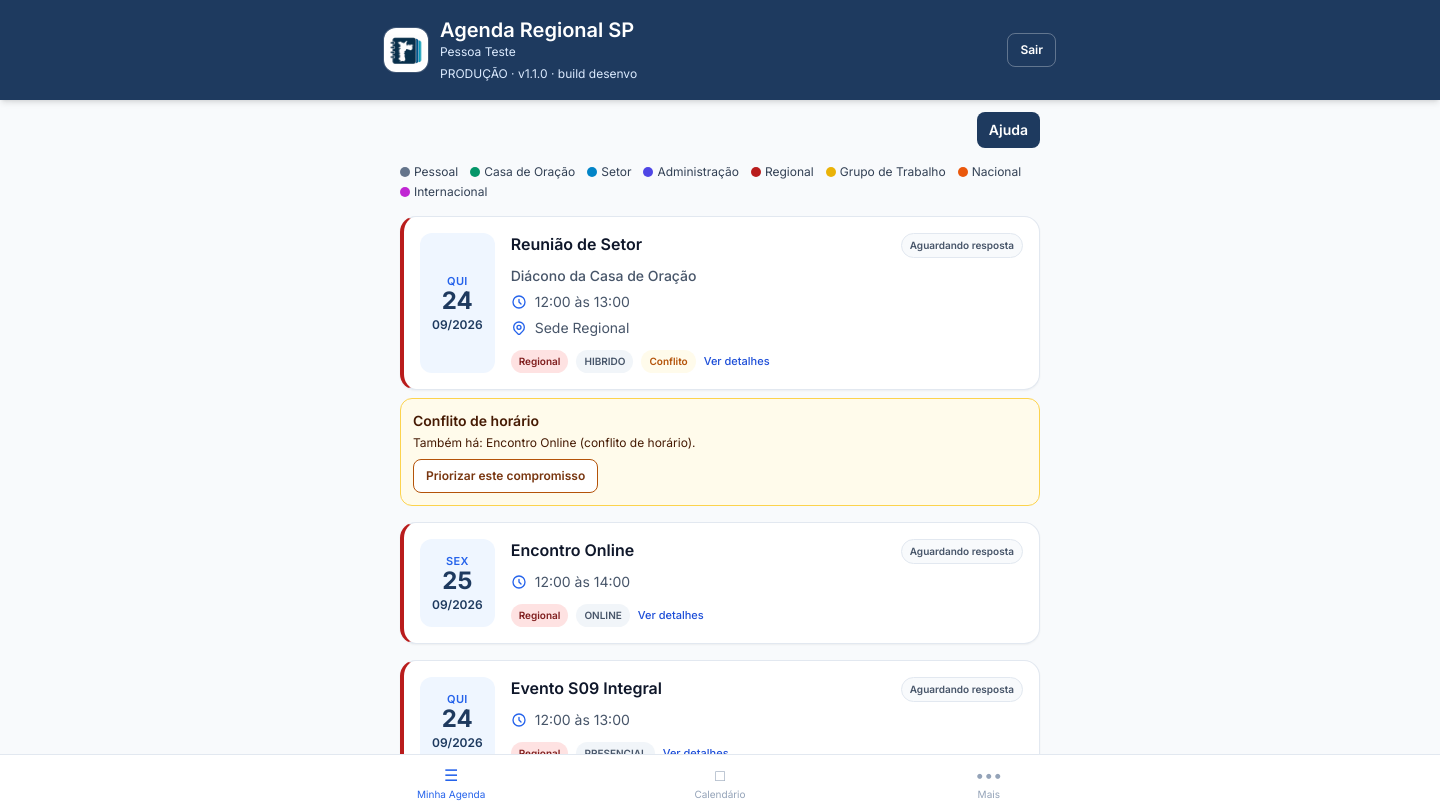
Test: S07 - Minha Agenda e Calendário › 3d. recalcula conflitos depois de alterar o RSVP
expect the text "Conflito de horário" is shown: met, box x1=413 y1=412 x2=539 y2=429
Click the button "Reunião de Setor".
click(457, 303)  # box x1=400 y1=216 x2=1040 y2=390
(page scrolled)
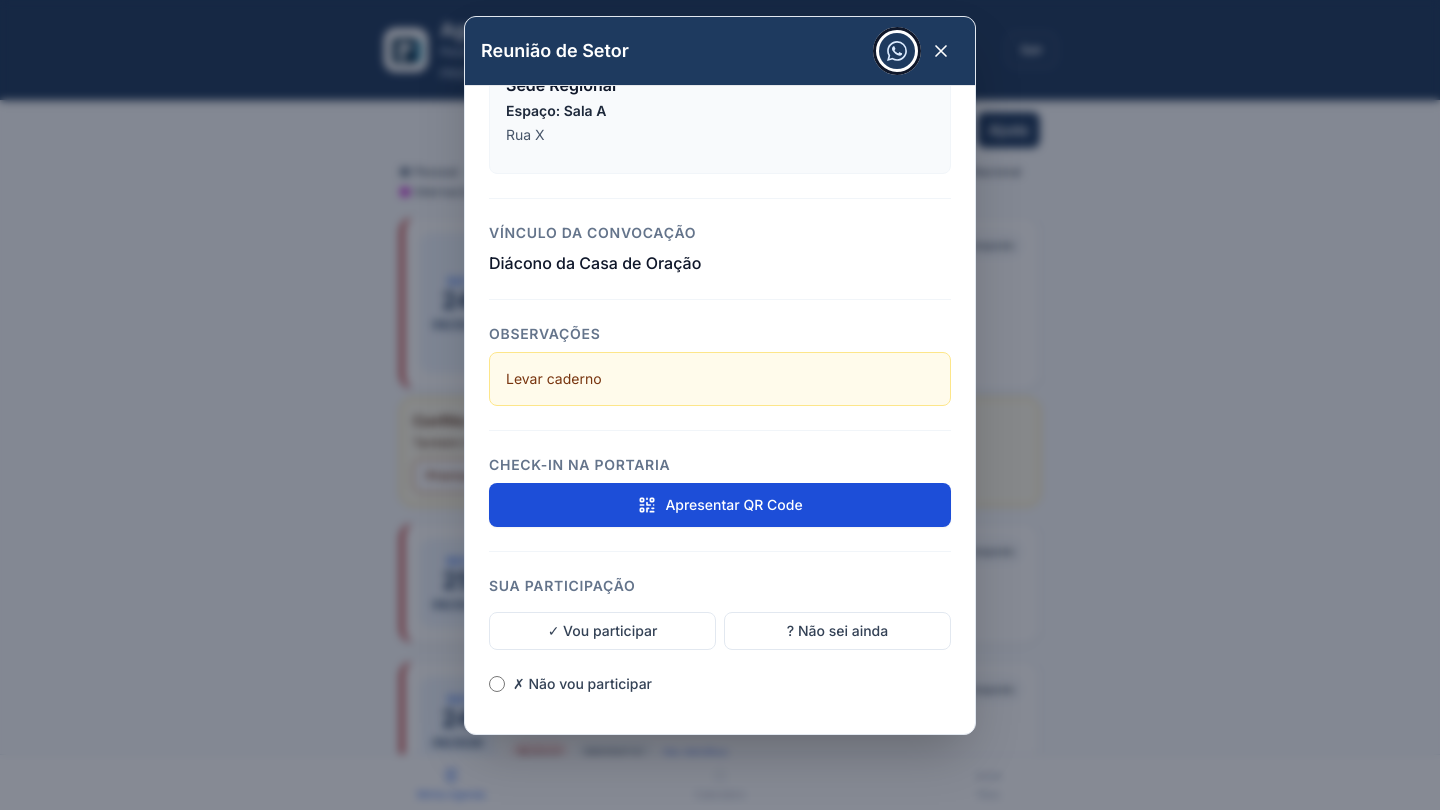
Click the radio button labelled "✗ Não vou participar".
click(497, 684)  # box x1=489 y1=676 x2=505 y2=692
(page scrolled)
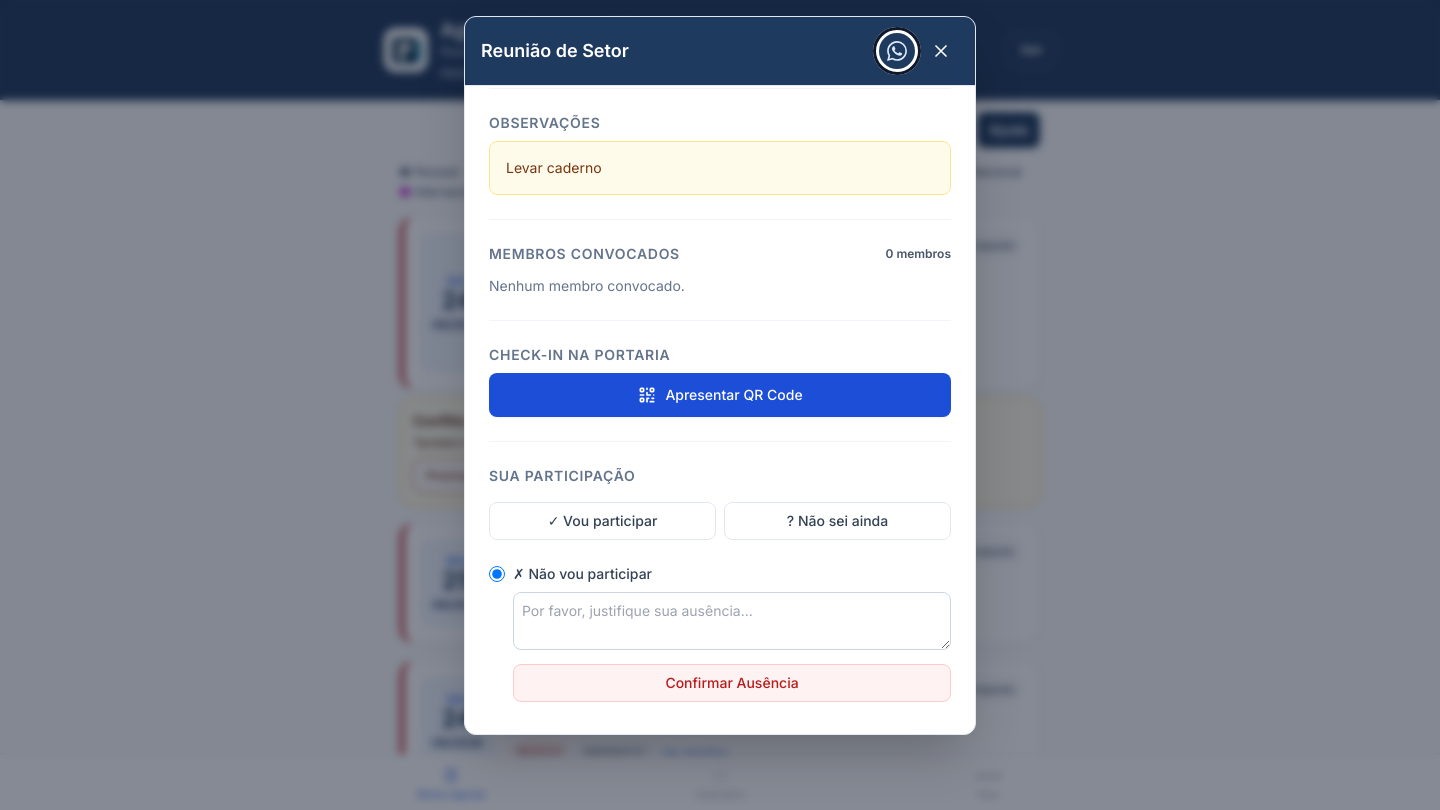
Type "Outro compromisso" into the text box with placeholder "Por favor, justifique sua ausência...".
click(732, 621); type("Outro compromisso")  # box x1=513 y1=592 x2=951 y2=650
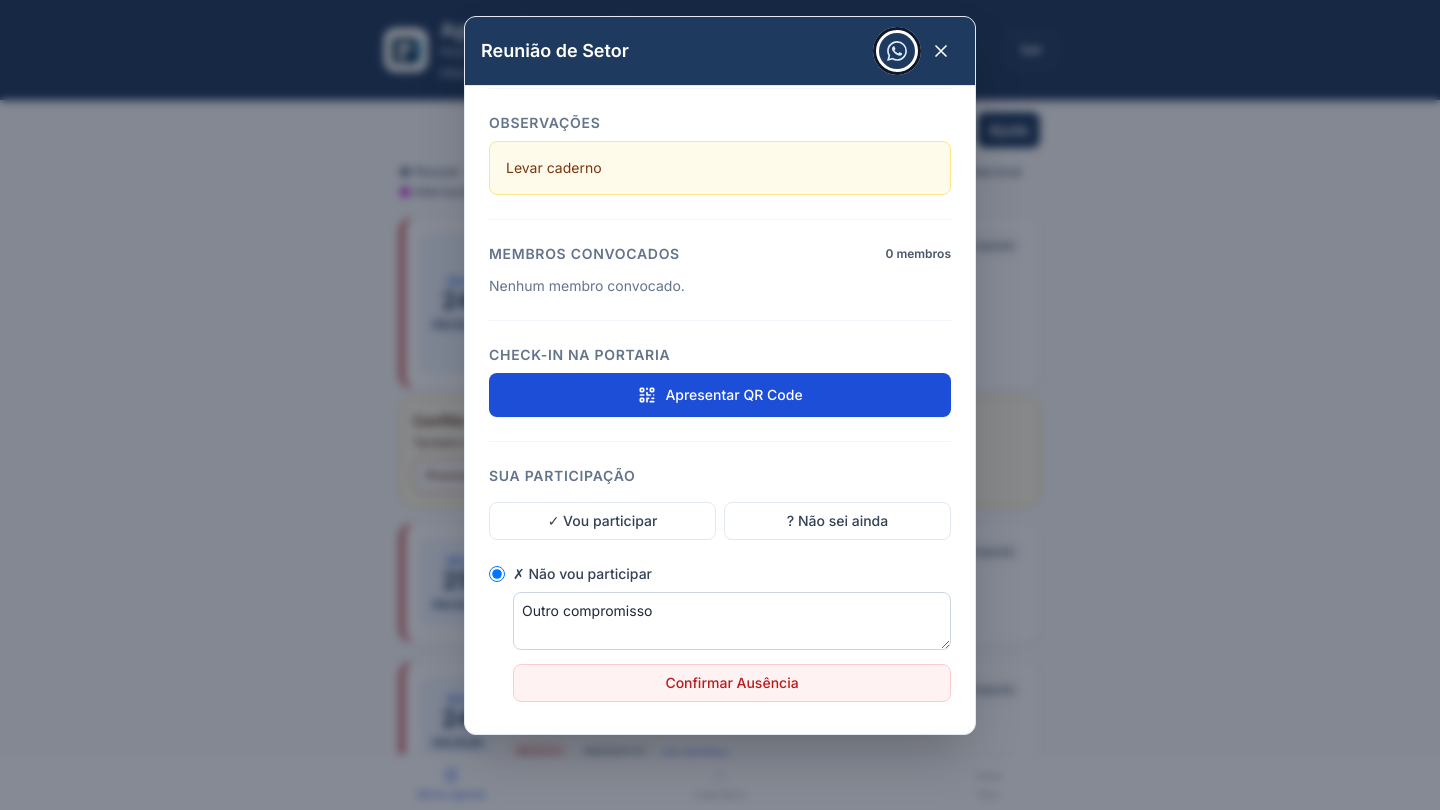
Click the button "Confirmar Ausência".
click(732, 683)  # box x1=513 y1=664 x2=951 y2=702
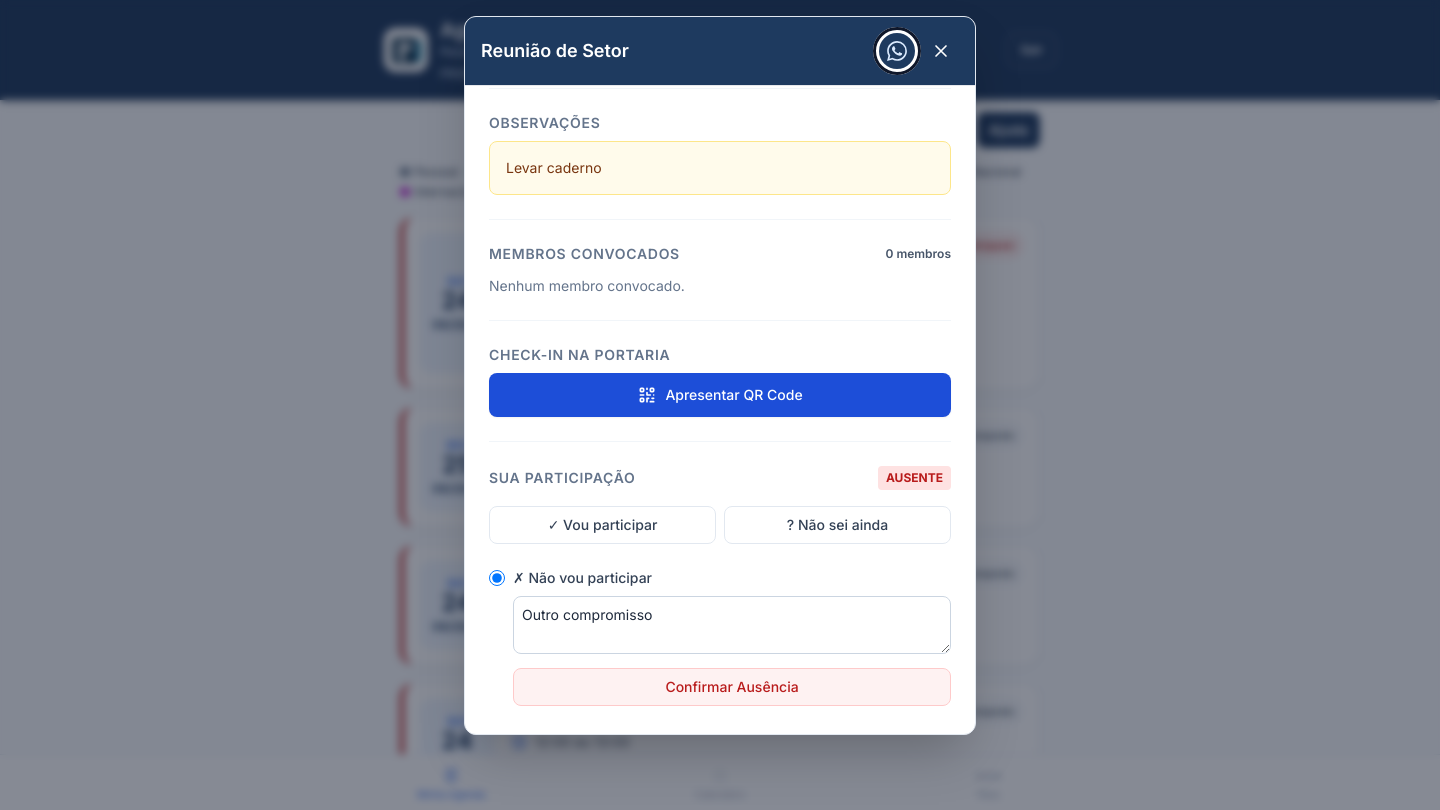
expect the text "Conflito de horário" is gone: met
